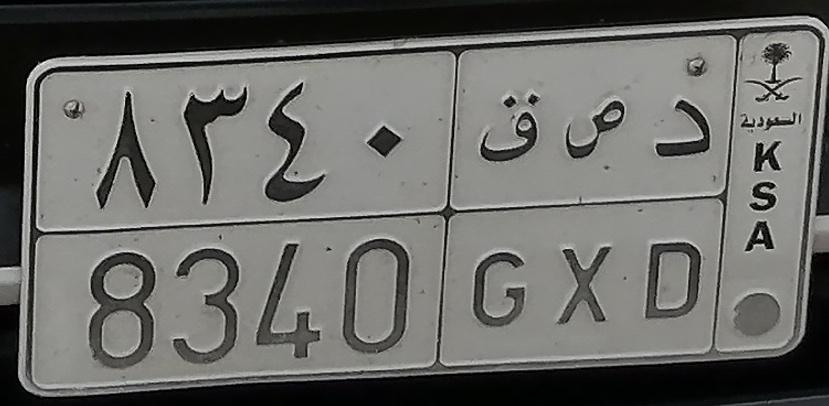0: (341, 120, 418, 364)
3: (165, 74, 254, 376)
4: (252, 76, 331, 367)
8: (82, 86, 164, 372)
D: (632, 92, 715, 324)
G: (466, 87, 545, 336)
X: (549, 89, 632, 335)
